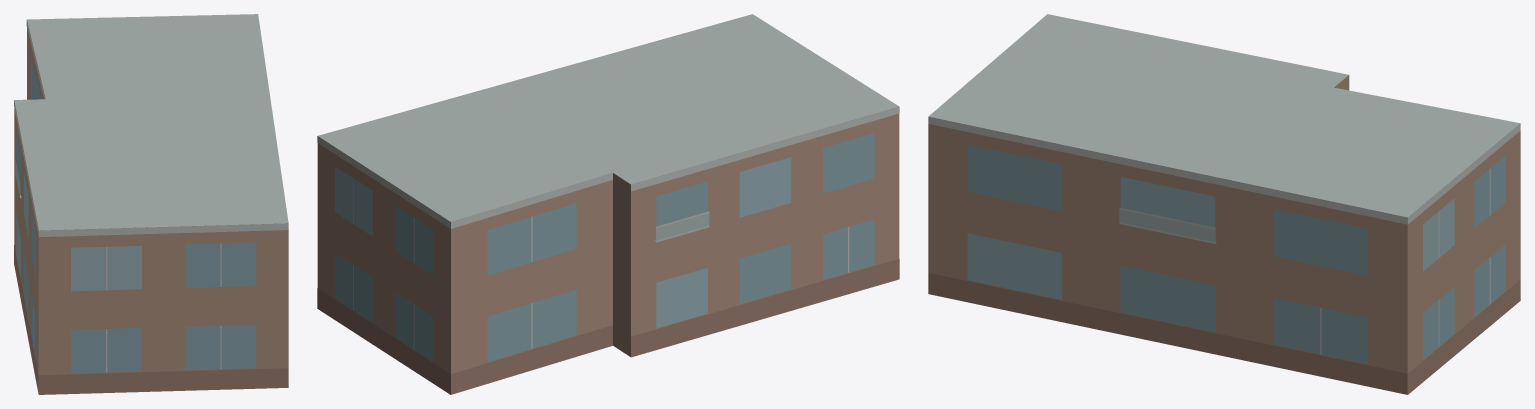
File: survey-upis-32890208.glb
3 views of the same model, side by side, from view 1: azimuth 30°, elevation 25°; view 2: azimuth 150°, elevation 25°; view 3: azimuth 270°, elevation 25° (orthographic). The views are drawn at different scales.
Visible parts, largest first — view 1: survey-upis-32890208.tmp; view 2: survey-upis-32890208.tmp; view 3: survey-upis-32890208.tmp.
Part boxes in pixels (left/top/right/bottom): survey-upis-32890208.tmp: left=14, top=14, right=288, bottom=394; survey-upis-32890208.tmp: left=317, top=14, right=899, bottom=394; survey-upis-32890208.tmp: left=928, top=14, right=1520, bottom=394.
Size of the model in its own units: 14.77 by 6 by 18.16.
